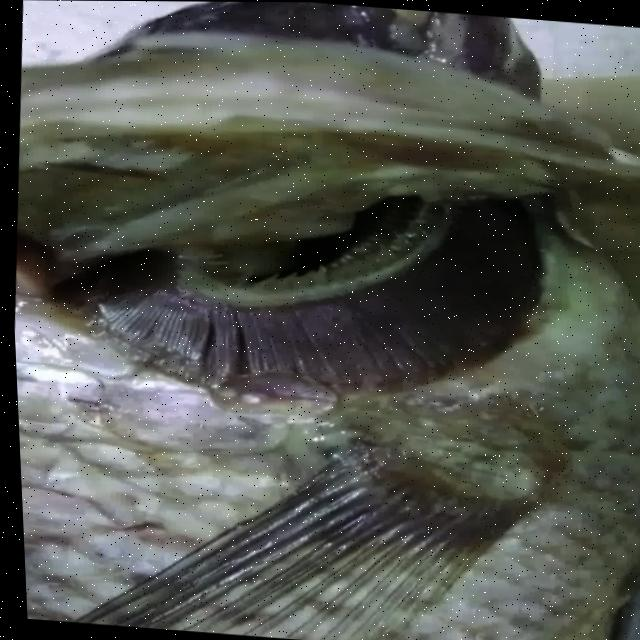Non-Fresh: (50, 172, 567, 425)
